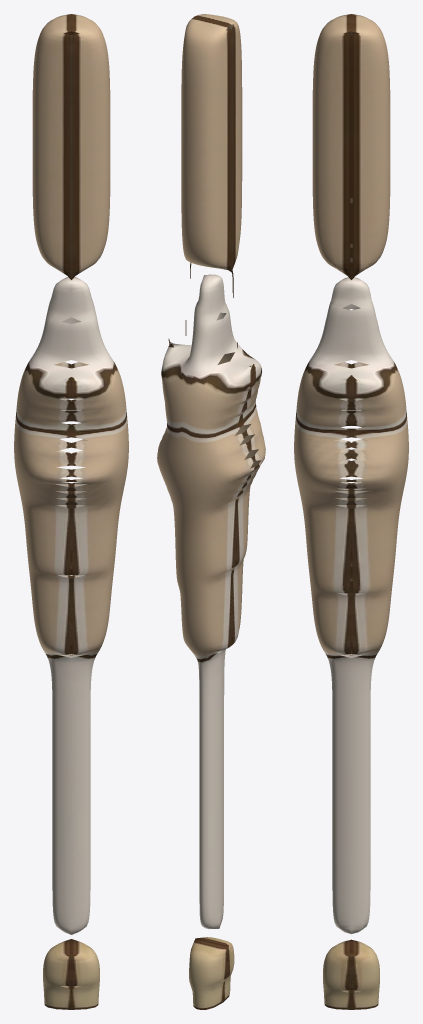
File: bay_divider.glb
The picture shows the model from 3 angles, left to right: view 1: azimuth 90°, elevation 25°; view 2: azimuth 150°, elevation 25°; view 3: azimuth 270°, elevation 25°; orthographic projection.
Parts seen in each view (by area): view 1: bay_divider; view 2: bay_divider; view 3: bay_divider.
Part boxes in pixels (box(x1,y1,x2,y2)): bay_divider: box(14, 14, 128, 1009); bay_divider: box(157, 14, 265, 1009); bay_divider: box(294, 14, 408, 1009).
Size of the model in its own units: 0.8861 by 9.07 by 0.9617.
Materials: 1 (1 with a texture image).
